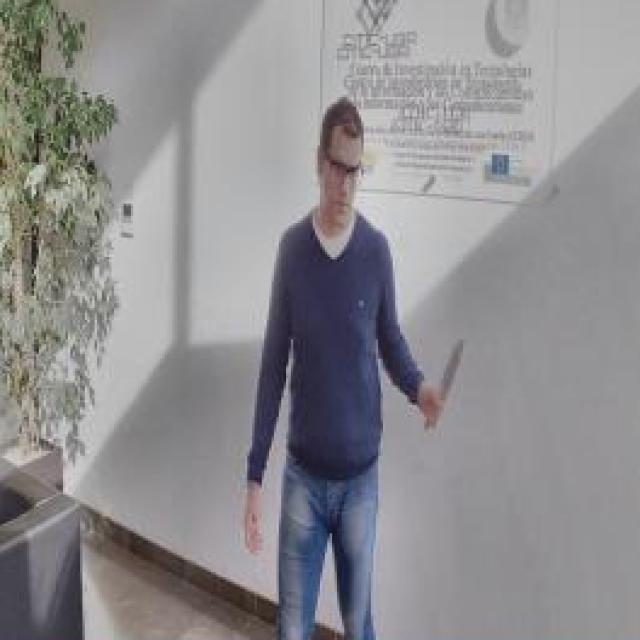knife: (422, 332, 466, 433)
